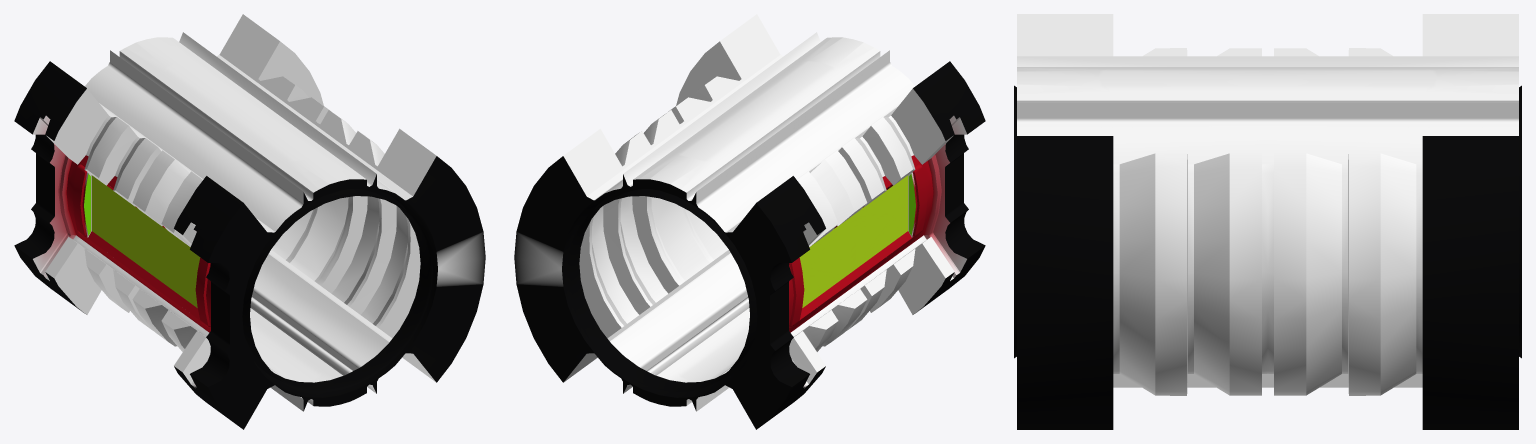
The model's file is part_main-lod0.dae.
3 renders of one model, left to right at view 1: azimuth 30°, elevation 25°; view 2: azimuth 150°, elevation 25°; view 3: azimuth 270°, elevation 25°, orthographic. The views are drawn at different scales.
Visible parts, largest first — view 1: part_main-lod0Xlod0Xp2genericXgen_p2_hulltextureaged_02, part_main-lod0Xlod0Xp2genericXgen_p2_hullpattern_01, part_main-lod0Xlod0Xp2genericXgen_p2_hulltexture_02_c, part_main-lod0Xlod0Xp2multimatXp2_multimat_01; view 2: part_main-lod0Xlod0Xp2genericXgen_p2_hulltextureaged_02, part_main-lod0Xlod0Xp2genericXgen_p2_hullpattern_01, part_main-lod0Xlod0Xp2genericXgen_p2_hulltexture_02_c, part_main-lod0Xlod0Xp2multimatXp2_multimat_01; view 3: part_main-lod0Xlod0Xp2genericXgen_p2_hulltextureaged_02, part_main-lod0Xlod0Xp2genericXgen_p2_hullpattern_01, part_main-lod0Xlod0Xp2genericXgen_p2_hulltexture_02_c.
Boxes of the visible parts, box(x1,y1,x2,y2) form: part_main-lod0Xlod0Xp2genericXgen_p2_hulltextureaged_02: box(14, 32, 437, 405); part_main-lod0Xlod0Xp2genericXgen_p2_hullpattern_01: box(14, 14, 485, 429); part_main-lod0Xlod0Xp2genericXgen_p2_hulltexture_02_c: box(85, 37, 398, 411); part_main-lod0Xlod0Xp2multimatXp2_multimat_01: box(67, 155, 210, 331); part_main-lod0Xlod0Xp2genericXgen_p2_hulltextureaged_02: box(562, 32, 985, 405); part_main-lod0Xlod0Xp2genericXgen_p2_hullpattern_01: box(514, 14, 985, 429); part_main-lod0Xlod0Xp2genericXgen_p2_hulltexture_02_c: box(601, 37, 914, 411); part_main-lod0Xlod0Xp2multimatXp2_multimat_01: box(789, 155, 932, 331); part_main-lod0Xlod0Xp2genericXgen_p2_hulltextureaged_02: box(1014, 56, 1521, 395); part_main-lod0Xlod0Xp2genericXgen_p2_hullpattern_01: box(1017, 14, 1518, 429); part_main-lod0Xlod0Xp2genericXgen_p2_hulltexture_02_c: box(1017, 67, 1518, 387).
Size of the model in its own units: 26.48 by 20.69 by 32.39.
